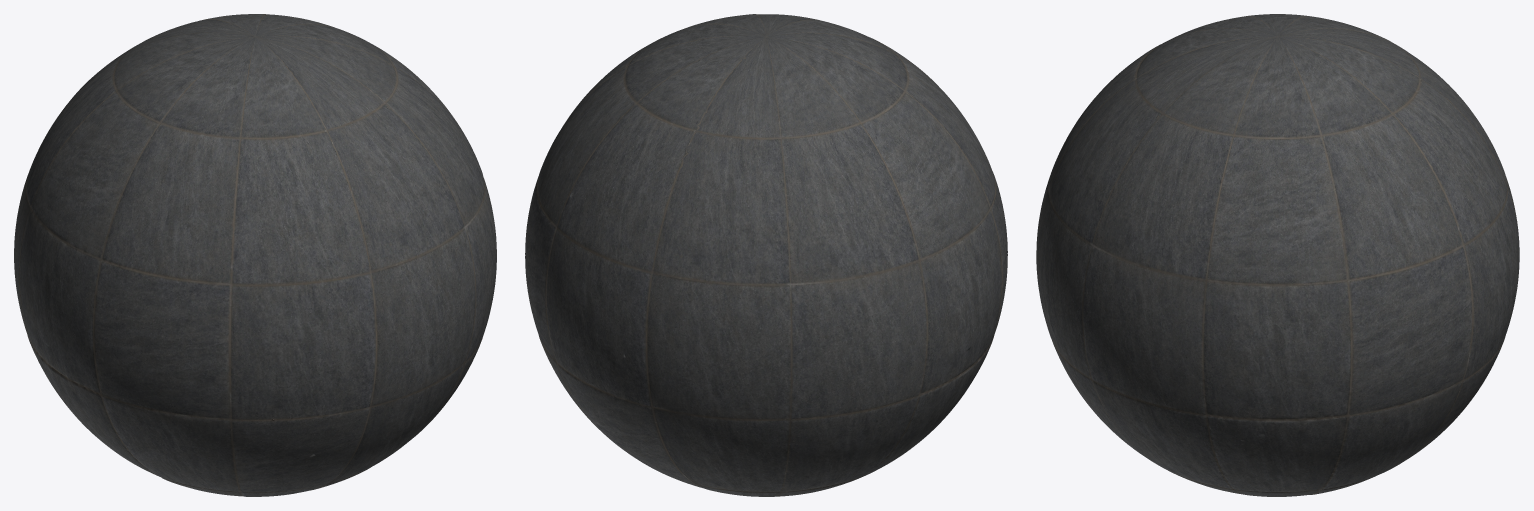
The model's file is granite_tile_1k.gltf.
3 views of the same model, side by side, from view 1: azimuth 30°, elevation 25°; view 2: azimuth 150°, elevation 25°; view 3: azimuth 270°, elevation 25° (orthographic).
Visible parts, largest first — view 1: sphere_gltf; view 2: sphere_gltf; view 3: sphere_gltf.
Boxes of the visible parts, x1,y1,x2,y2 form: sphere_gltf: (14,14,496,496); sphere_gltf: (525,14,1007,496); sphere_gltf: (1036,14,1519,496).
Bounding box in the file's own units: 2.3 × 2.3 × 2.3.
Materials: 1 (1 with a texture image).
